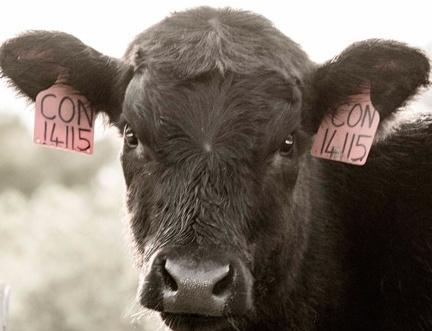muzzles: (136, 246, 254, 322)
